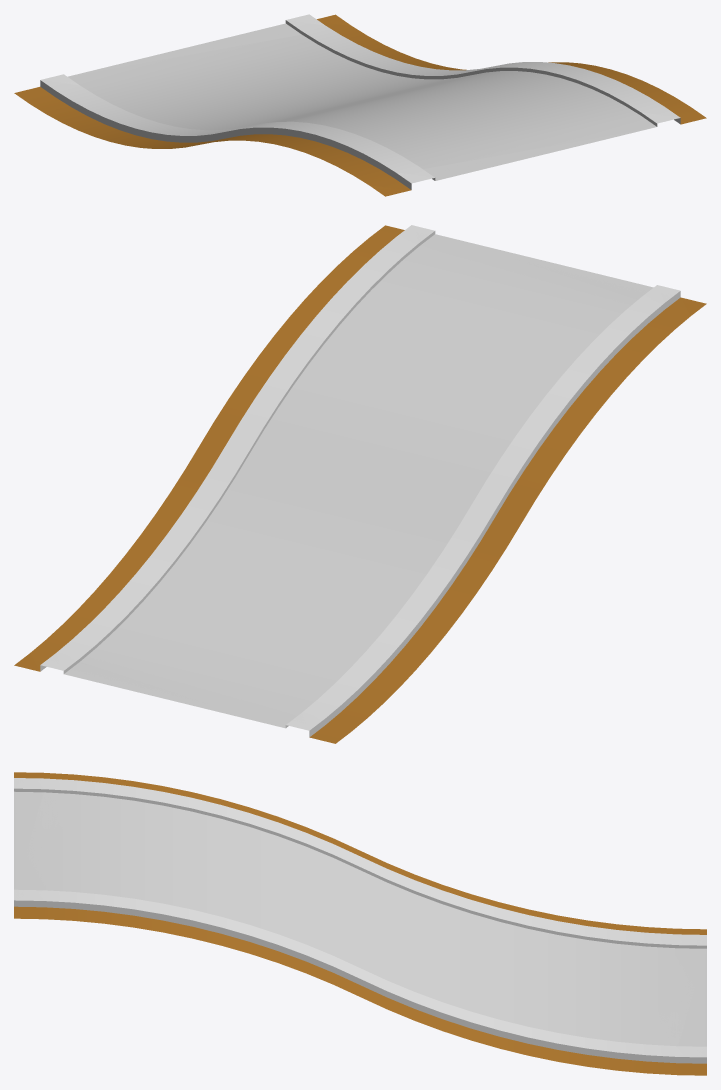
File: Road_Ramp_Long_Curved.fbx
3 views of the same model, one above another, from view 1: azimuth 30°, elevation 25°; view 2: azimuth 150°, elevation 25°; view 3: azimuth 270°, elevation 25° (orthographic). The views are drawn at different scales.
Parts seen in each view (by area): view 1: roadRampLongCurved.001; view 2: roadRampLongCurved.001; view 3: roadRampLongCurved.001.
Part boxes in pixels (box(x1,y1,x2,y2)): roadRampLongCurved.001: box(14, 14, 706, 196); roadRampLongCurved.001: box(14, 225, 706, 743); roadRampLongCurved.001: box(14, 772, 706, 1075).
Size of the model in its own units: 100 by 52 by 200.
